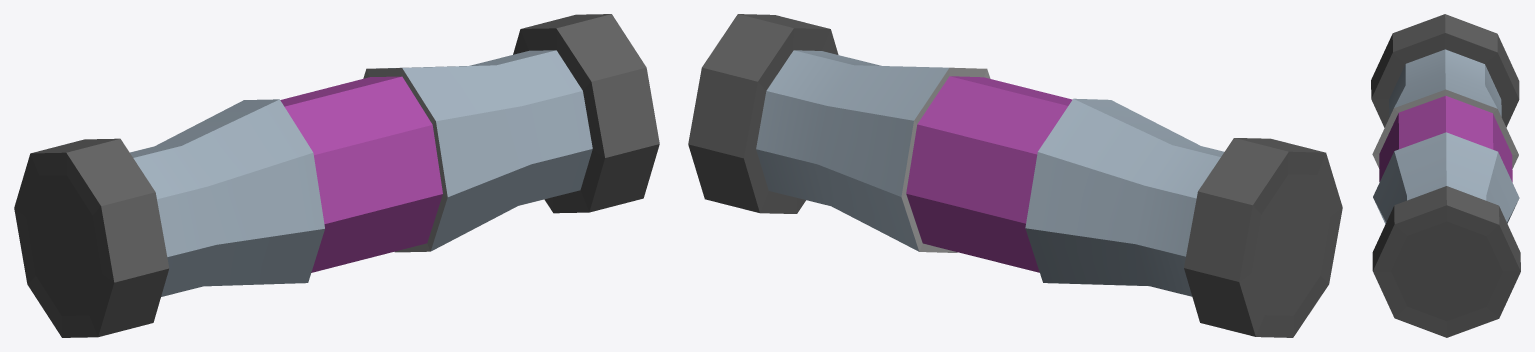
The model's file is Fusible.fbx.
3 views of the same model, side by side, from view 1: azimuth 30°, elevation 25°; view 2: azimuth 150°, elevation 25°; view 3: azimuth 270°, elevation 25° (orthographic). The views are drawn at different scales.
Parts seen in each view (by area): view 1: polySurface16; view 2: polySurface16; view 3: polySurface16.
Part boxes in pixels (box(x1,y1,x2,y2)): polySurface16: box(14, 14, 659, 337); polySurface16: box(688, 14, 1342, 337); polySurface16: box(1371, 14, 1520, 337).
Size of the model in its own units: 1.59 by 0.521 by 0.5147.
